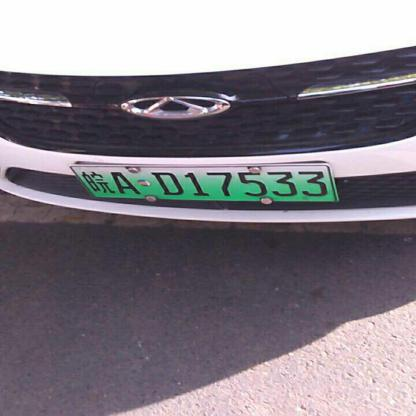lp: (70, 163, 337, 200)
